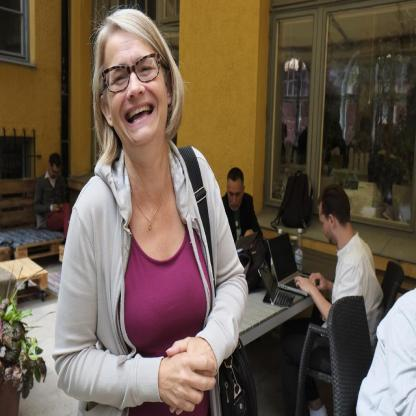board: (264, 232, 320, 296), (257, 262, 296, 307), (294, 228, 304, 272), (236, 232, 256, 248)
